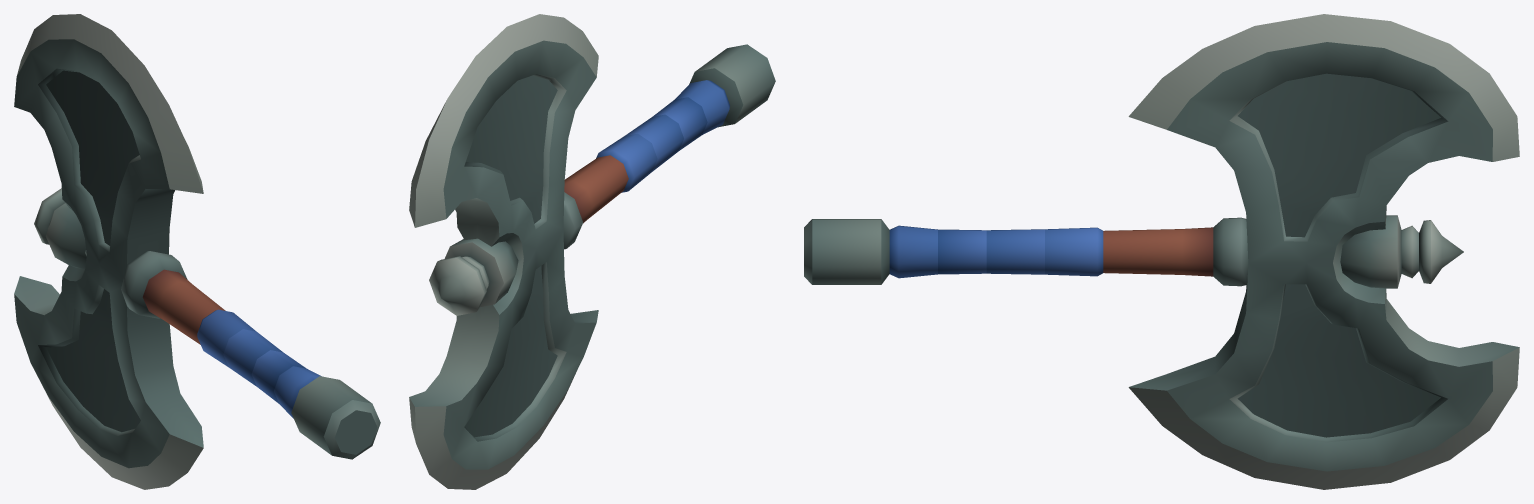
File: Melee_VikingAxe.fbx
3 views of the same model, side by side, from view 1: azimuth 30°, elevation 25°; view 2: azimuth 150°, elevation 25°; view 3: azimuth 270°, elevation 25° (orthographic). The views are drawn at different scales.
Parts seen in each view (by area): view 1: Melee_VikingAxe; view 2: Melee_VikingAxe; view 3: Melee_VikingAxe.
Part boxes in pixels (left/top/right/bottom): Melee_VikingAxe: left=14, top=14, right=380, bottom=489; Melee_VikingAxe: left=409, top=14, right=775, bottom=489; Melee_VikingAxe: left=804, top=14, right=1519, bottom=489.
Size of the model in its own units: 0.1205 by 0.8117 by 1.11.
